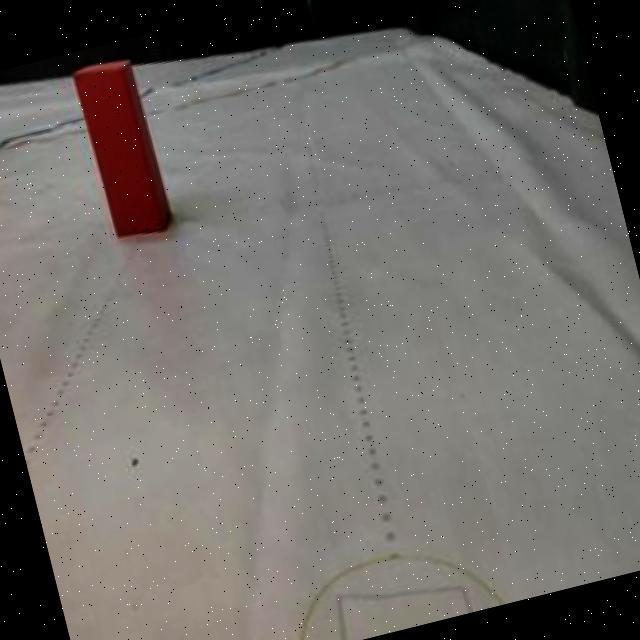redbox: (69, 52, 179, 245)
